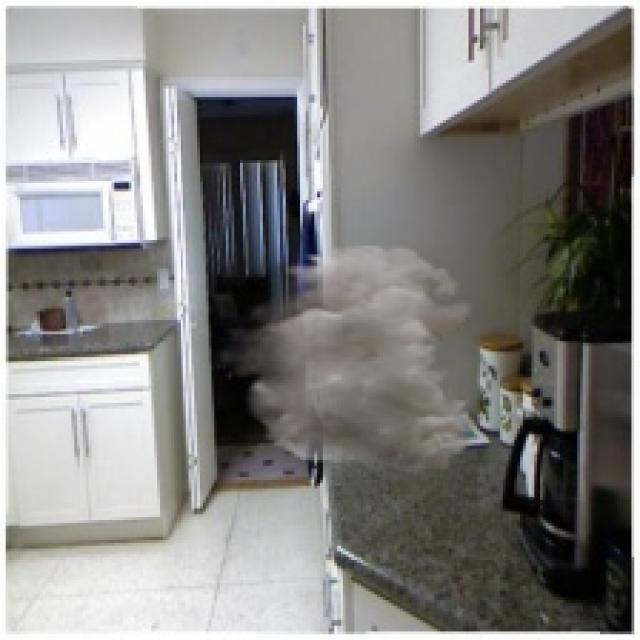smoke: (214, 243, 480, 474)
